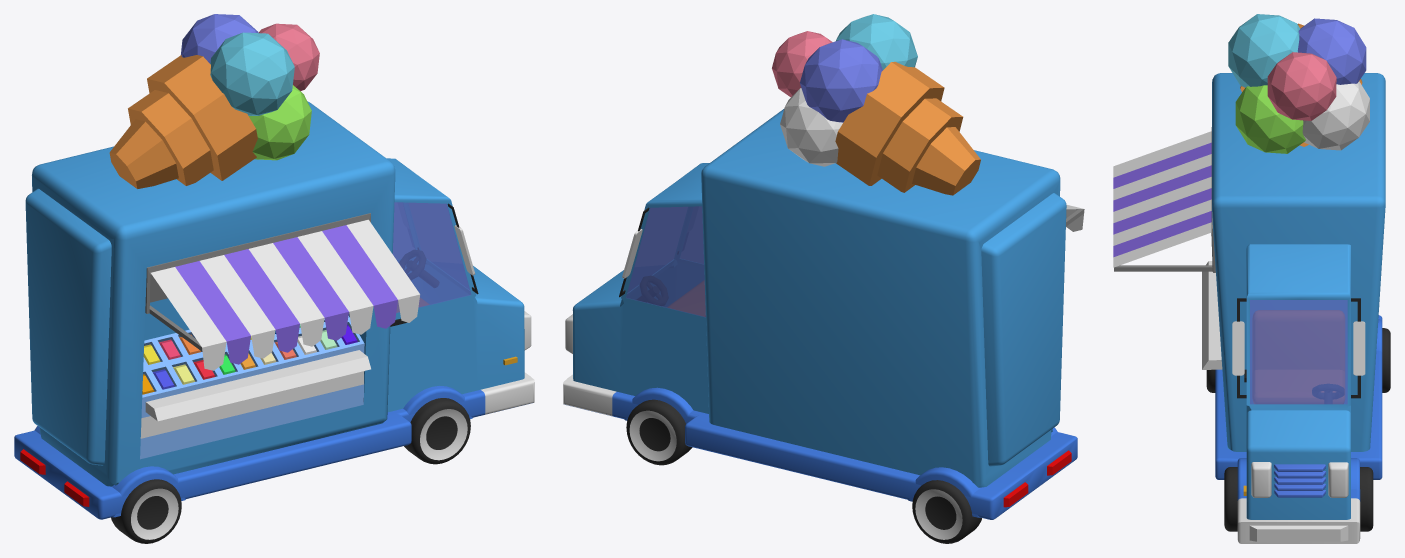
File: dondurmaKamyon.fbx
The picture shows the model from 3 angles, left to right: view 1: azimuth 30°, elevation 25°; view 2: azimuth 150°, elevation 25°; view 3: azimuth 270°, elevation 25°; orthographic projection. The views are drawn at different scales.
Visible parts, largest first — view 1: kamyon, dondurma, tekarler; view 2: kamyon, dondurma, tekarler; view 3: kamyon, dondurma, tekarler.
Boxes of the visible parts, x1,y1,x2,y2 form: kamyon: (14, 101, 534, 519); dondurma: (109, 14, 319, 188); tekarler: (111, 398, 470, 543); kamyon: (563, 109, 1084, 519); dondurma: (772, 14, 980, 195); tekarler: (626, 399, 981, 543); kamyon: (1113, 73, 1385, 543); dondurma: (1228, 14, 1369, 153); tekarler: (1206, 328, 1390, 531).
Bounding box in the file's own units: 507 × 481 × 280.
